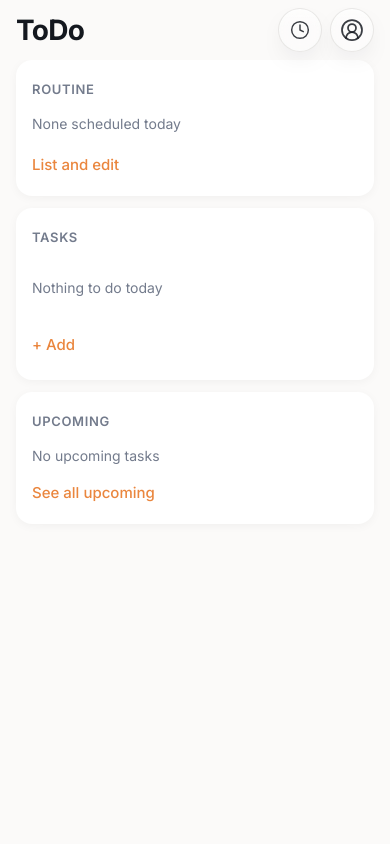
Phase 6 ToDo UI › 32. Add menu distinguishes Task, Routine, and Repeat Task
Click the button "+ Add" at x=54, y=345, box [28,326,79,364]
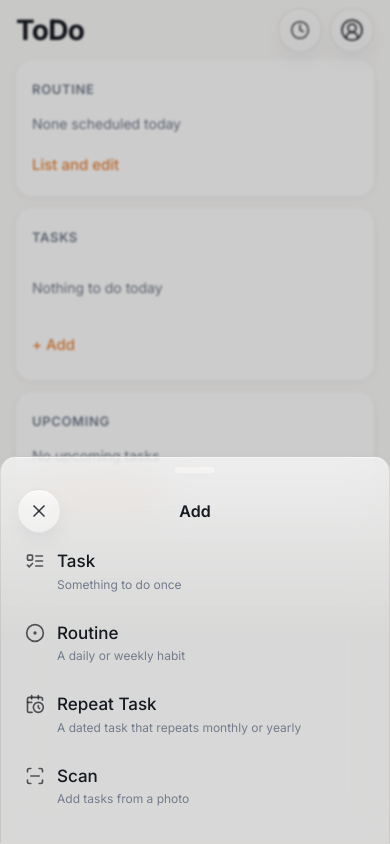
Result: the button "Task Something to do once" is shown at [13,537,377,604]
Result: the button "Routine A daily or weekly habit" is shown at [13,608,377,676]
Result: the button "Repeat Task A dated task that repeats monthly or yearly" is shown at [13,680,377,748]
